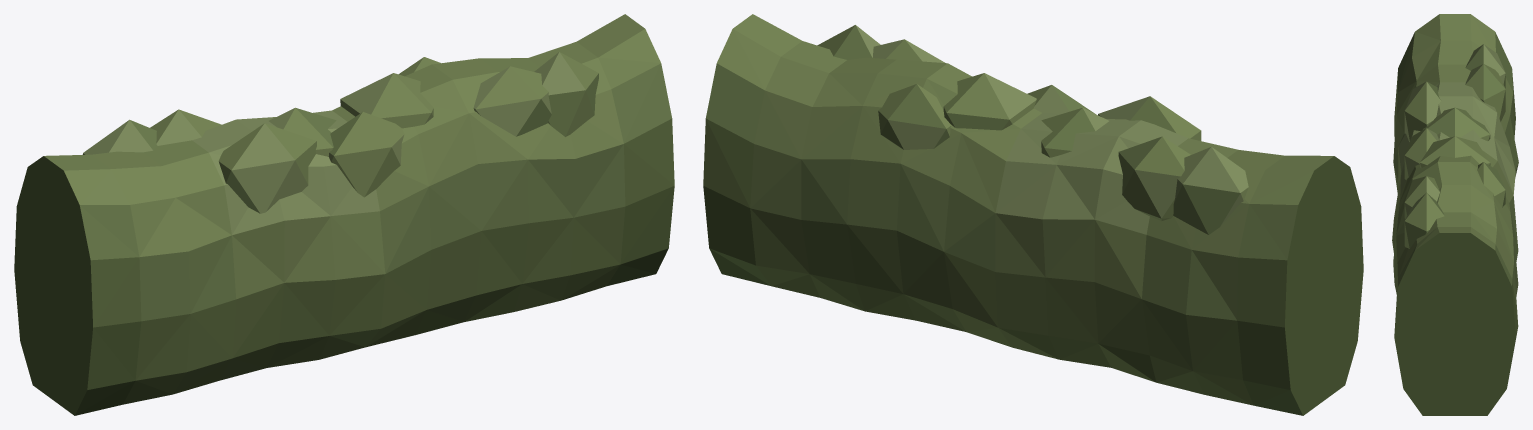
The model's file is lwf_hedge_straight_4m_a_v1.glb.
The picture shows the model from 3 angles, left to right: view 1: azimuth 30°, elevation 25°; view 2: azimuth 150°, elevation 25°; view 3: azimuth 270°, elevation 25°; orthographic projection. The views are drawn at different scales.
Parts seen in each view (by area): view 1: lwf_hedge_straight_4m_a_v1; view 2: lwf_hedge_straight_4m_a_v1; view 3: lwf_hedge_straight_4m_a_v1.
Part boxes in pixels (x1,y1,x2,y2): lwf_hedge_straight_4m_a_v1: (14, 14, 674, 415); lwf_hedge_straight_4m_a_v1: (703, 14, 1363, 415); lwf_hedge_straight_4m_a_v1: (1392, 14, 1518, 415).
Bounding box in the file's own units: 4 × 1.72 × 0.9793.
Materials: 1 (1 with a texture image).
